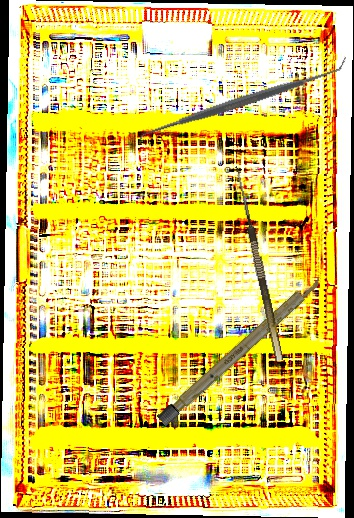Hook Surgical: (223, 165, 284, 364)
Scalpel Handle: (156, 273, 325, 427)
Spatula Surgical: (132, 55, 353, 147)
